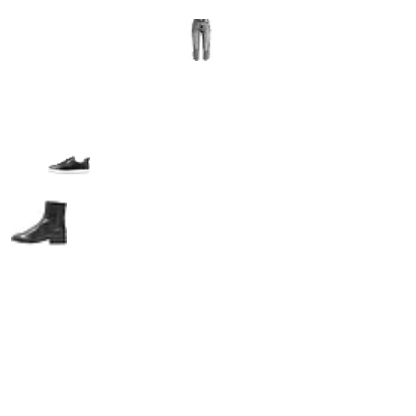Ankle_boot: (11, 195, 67, 251)
Sneaker: (48, 144, 90, 186)
Trouser: (180, 19, 222, 61)
